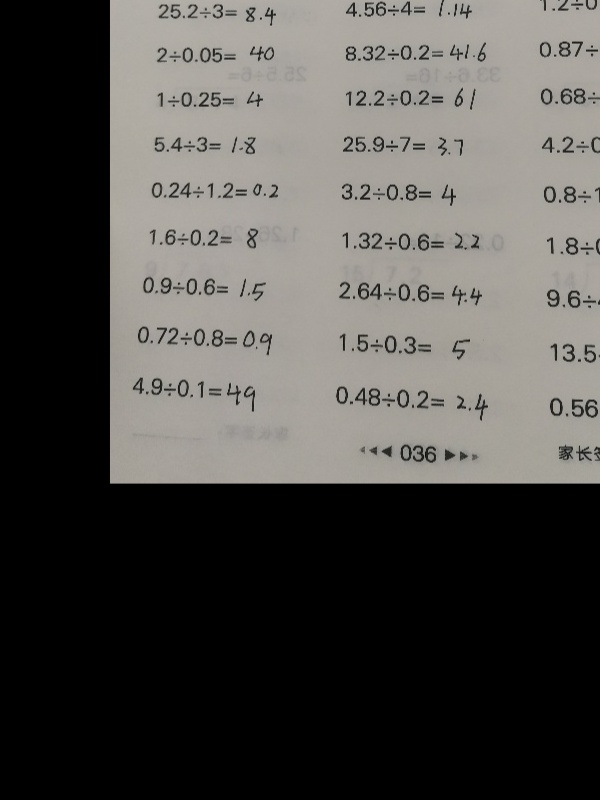equation: (331, 385, 492, 419), (335, 331, 478, 364), (133, 322, 275, 353), (129, 374, 259, 407), (335, 280, 485, 308), (341, 83, 479, 111), (342, 40, 490, 66), (138, 272, 269, 301), (338, 229, 482, 254), (337, 178, 459, 206), (339, 133, 466, 159), (155, 0, 279, 26), (146, 226, 271, 251), (148, 179, 282, 202), (154, 44, 279, 67), (150, 131, 259, 157), (342, 0, 475, 21), (154, 89, 267, 111), (536, 82, 600, 111), (538, 133, 600, 162), (545, 395, 600, 426), (535, 36, 600, 62), (539, 183, 600, 208), (542, 286, 600, 312), (543, 234, 600, 260), (547, 340, 600, 367), (536, 0, 600, 14)
